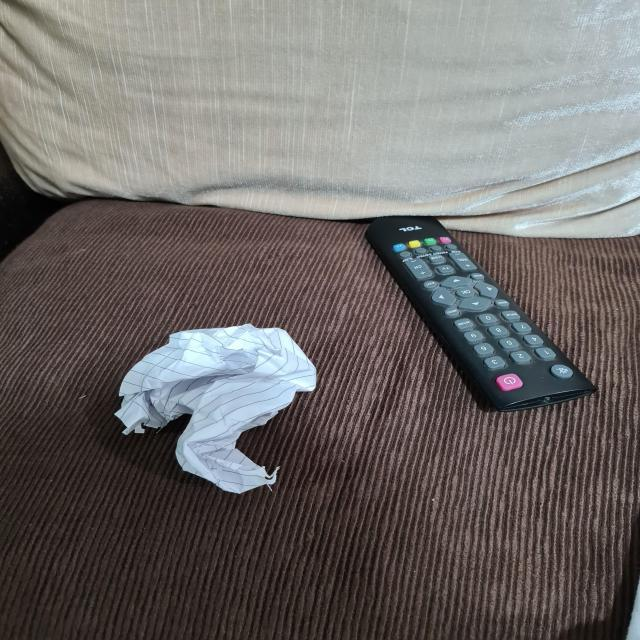trash: (116, 319, 316, 489)
